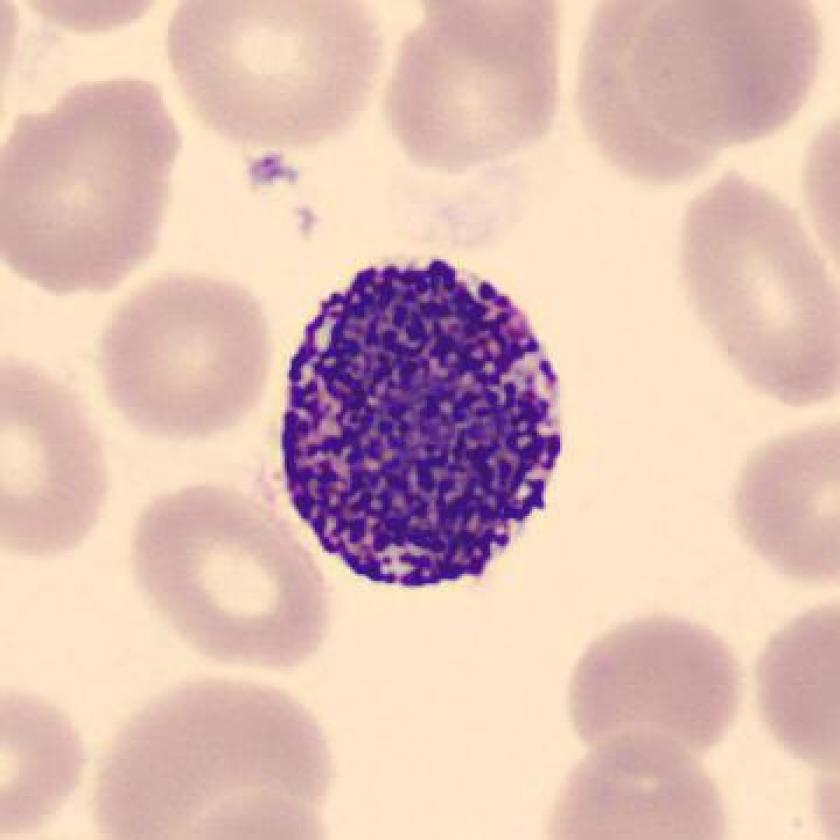basophil: (269, 254, 573, 601)
